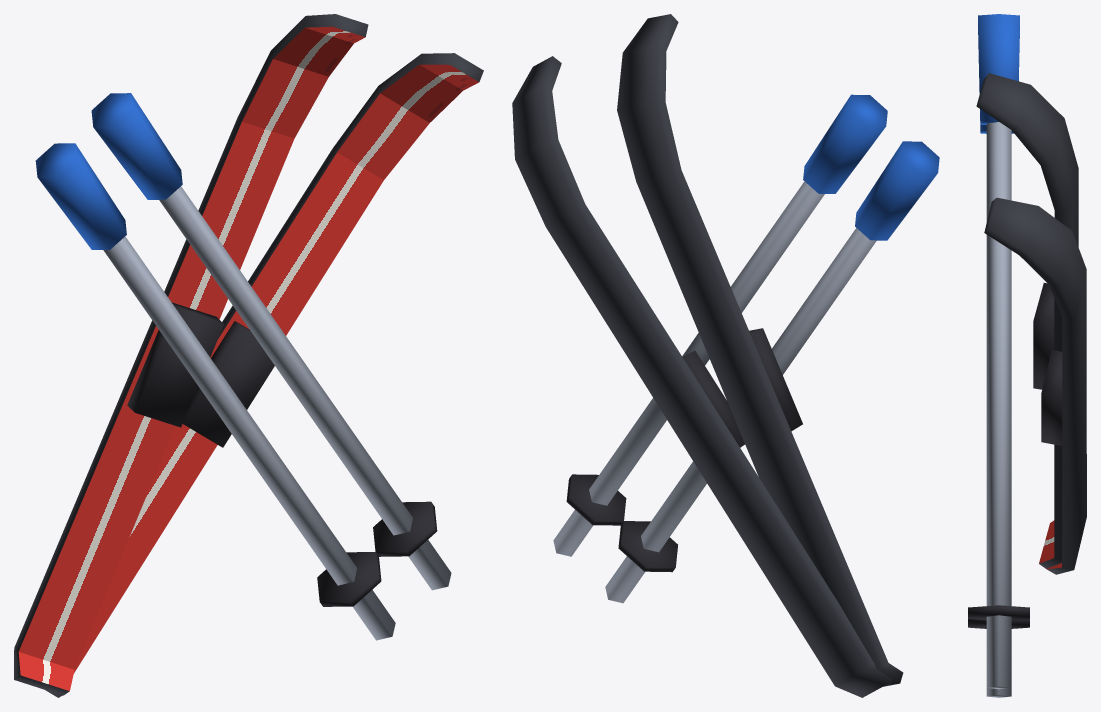
Rendered from outdoors-skis.glb.
3 renders of one model, left to right at view 1: azimuth 30°, elevation 25°; view 2: azimuth 150°, elevation 25°; view 3: azimuth 270°, elevation 25°, orthographic. The views are drawn at different scales.
Parts seen in each view (by area): view 1: outdoors.skis; view 2: outdoors.skis; view 3: outdoors.skis.
Part boxes in pixels (x1,y1,x2,y2): outdoors.skis: (14,14,483,697); outdoors.skis: (512,14,939,697); outdoors.skis: (968,14,1086,697).
Bounding box in the file's own units: 1.24 × 1.74 × 0.3063.
Materials: 5 (5 with a texture image).
